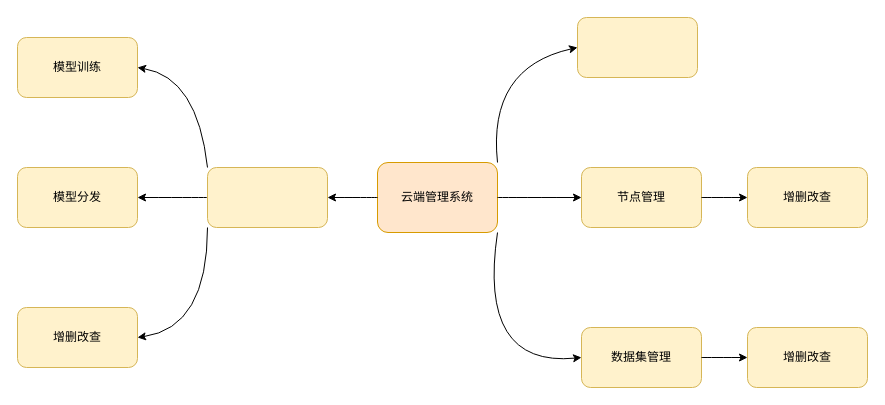
Some shapes in this 885 by 405 pixel diagram are drawn without their labels. Here are the shapes that lost their labels. From the top down, the centre of each, then its label:
At pixel 637 47: "用户管理".
At pixel 267 197: "模型管理".
